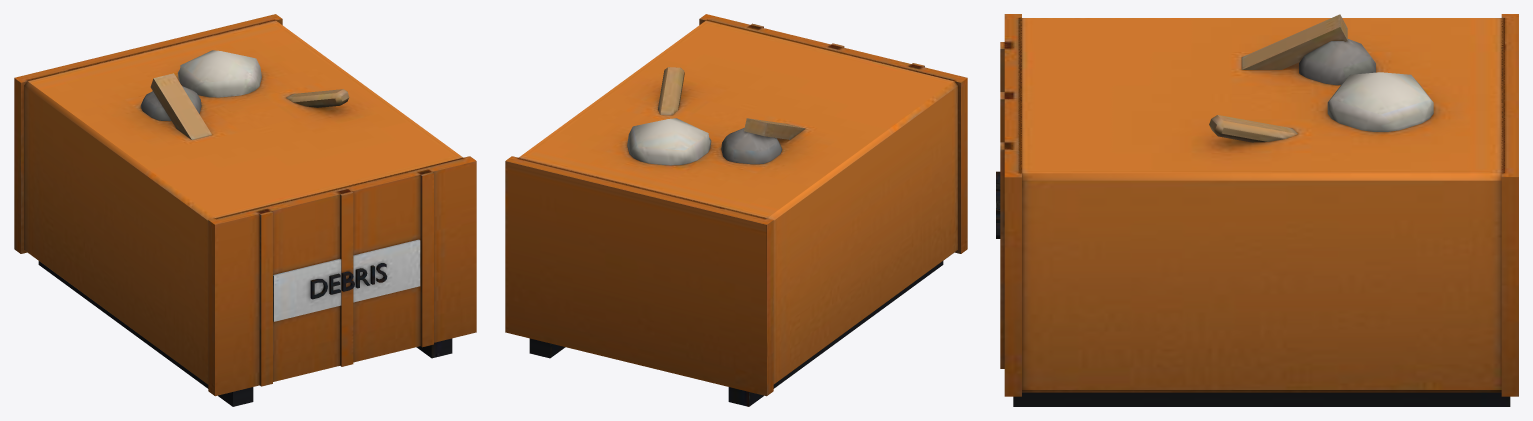
File: contenedor.glb
The picture shows the model from 3 angles, left to right: view 1: azimuth 30°, elevation 25°; view 2: azimuth 150°, elevation 25°; view 3: azimuth 270°, elevation 25°; orthographic projection. The views are drawn at different scales.
Parts seen in each view (by area): view 1: contenedor; view 2: contenedor; view 3: contenedor.
Part boxes in pixels (<box>): contenedor: <box>14,14,476,406</box>; contenedor: <box>505,14,967,406</box>; contenedor: <box>996,14,1518,406</box>.
Bounding box in the file's own units: 1.79 × 1.46 × 2.42.
Materials: 1 (1 with a texture image).
